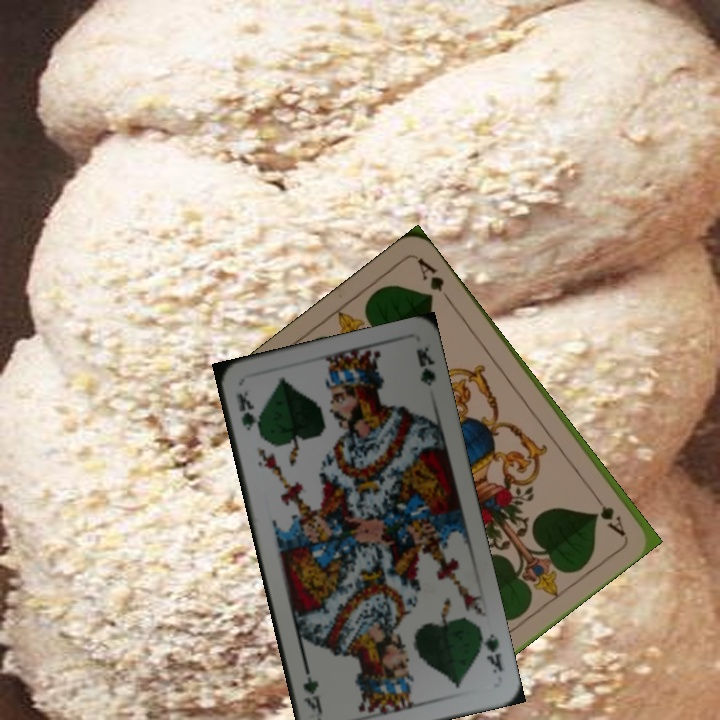GA: (588, 487, 628, 539)
GK: (232, 387, 264, 439), (475, 624, 506, 676)
